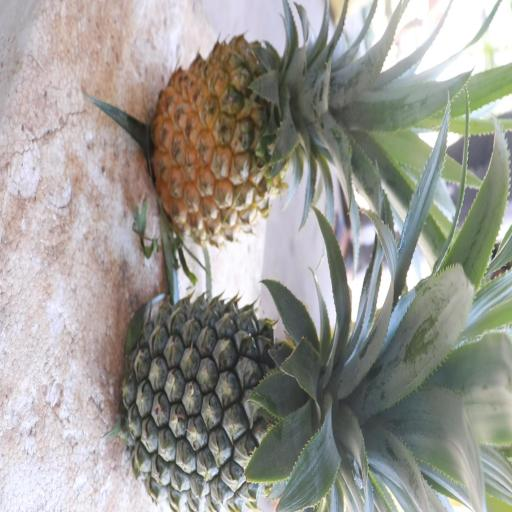Pineapple - v8 v1: (154, 36, 436, 232)
